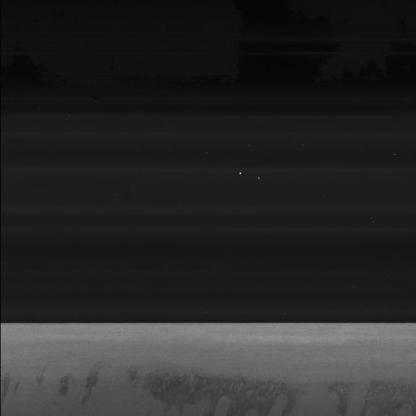water_spot: (13, 359, 407, 414)
